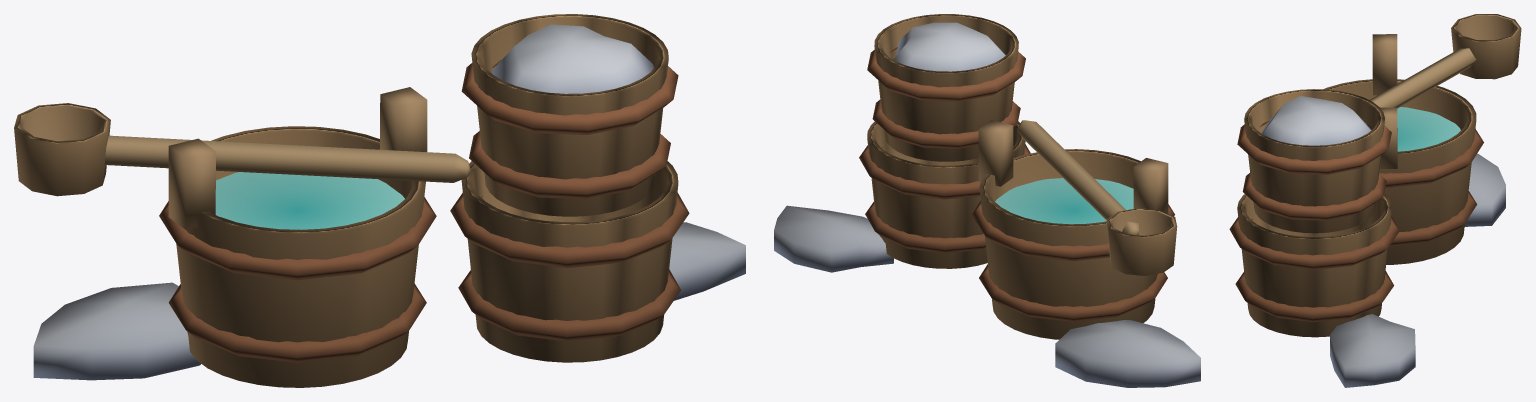
Rendered from rg-onsen-oke.glb.
3 renders of one model, left to right at view 1: azimuth 30°, elevation 25°; view 2: azimuth 150°, elevation 25°; view 3: azimuth 270°, elevation 25°, orthographic. The views are drawn at different scales.
Parts seen in each view (by area): view 1: body, water; view 2: body, water; view 3: body, water.
Part boxes in pixels (x1=…): body: x1=14, y1=14, x2=745, y2=387; water: x1=215, y1=172, x2=404, y2=229; body: x1=774, y1=14, x2=1200, y2=387; water: x1=995, y1=178, x2=1133, y2=224; body: x1=1229, y1=14, x2=1521, y2=387; water: x1=1397, y1=107, x2=1460, y2=151.
Bounding box in the file's own units: 0.746 × 0.3514 × 0.4145.
